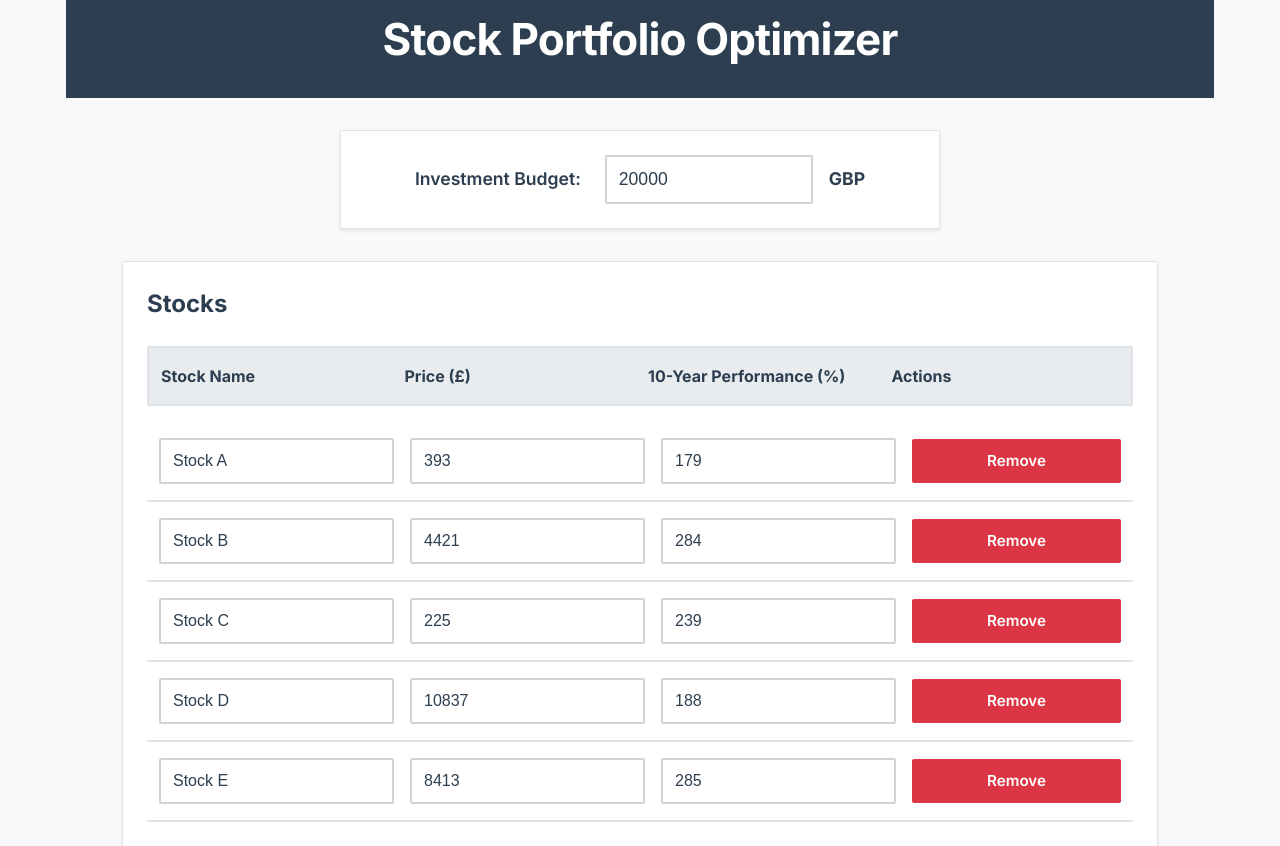
it: PortfolioOptimizer › handles stock with very high price
The width and height of the screenshot is (1280, 846).
Note: Set a very high price that exceeds budget
Replace the text in the 1st number field showing "393" with "50000" at (528, 461), box [410, 438, 645, 484]
(page scrolled)
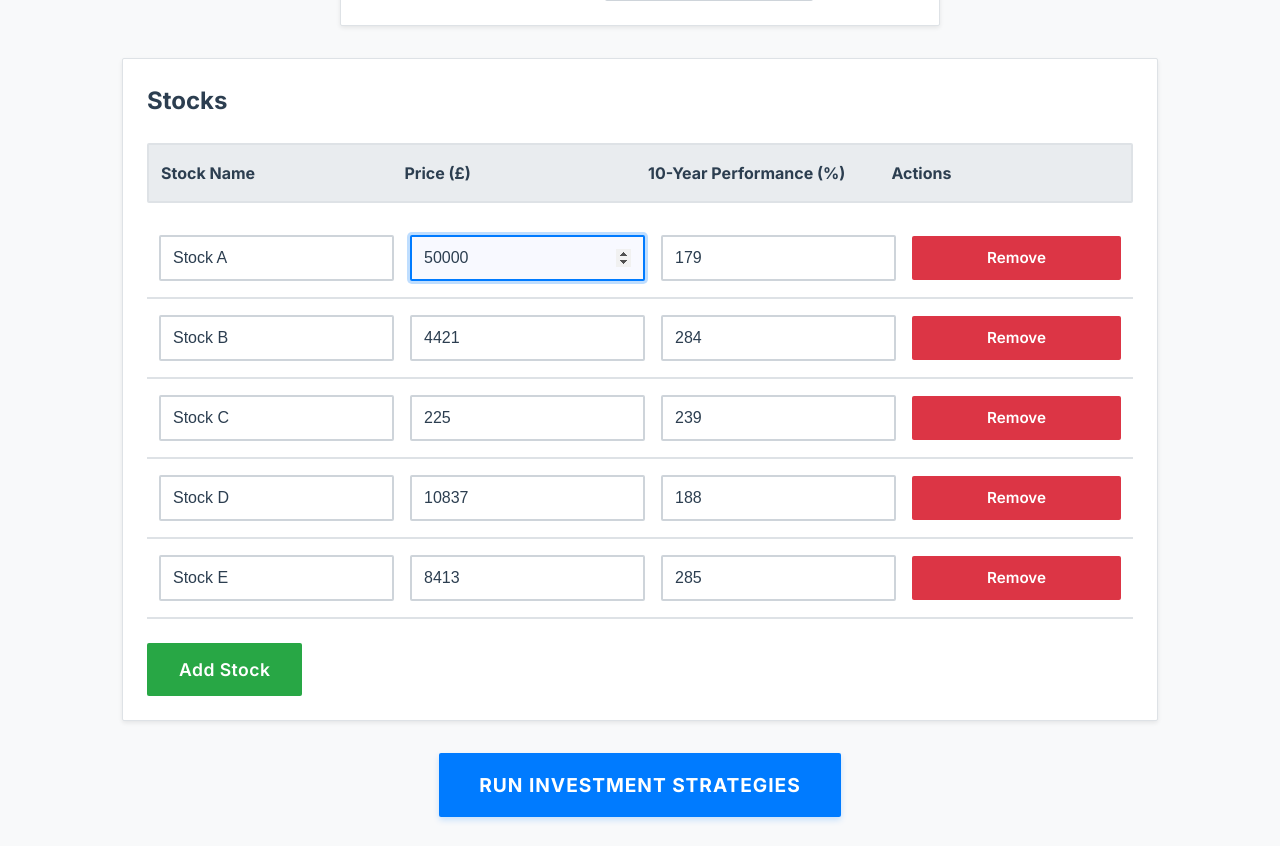
Click the button "Run Investment Strategies" at (640, 785), box [439, 753, 841, 817]
(page scrolled)
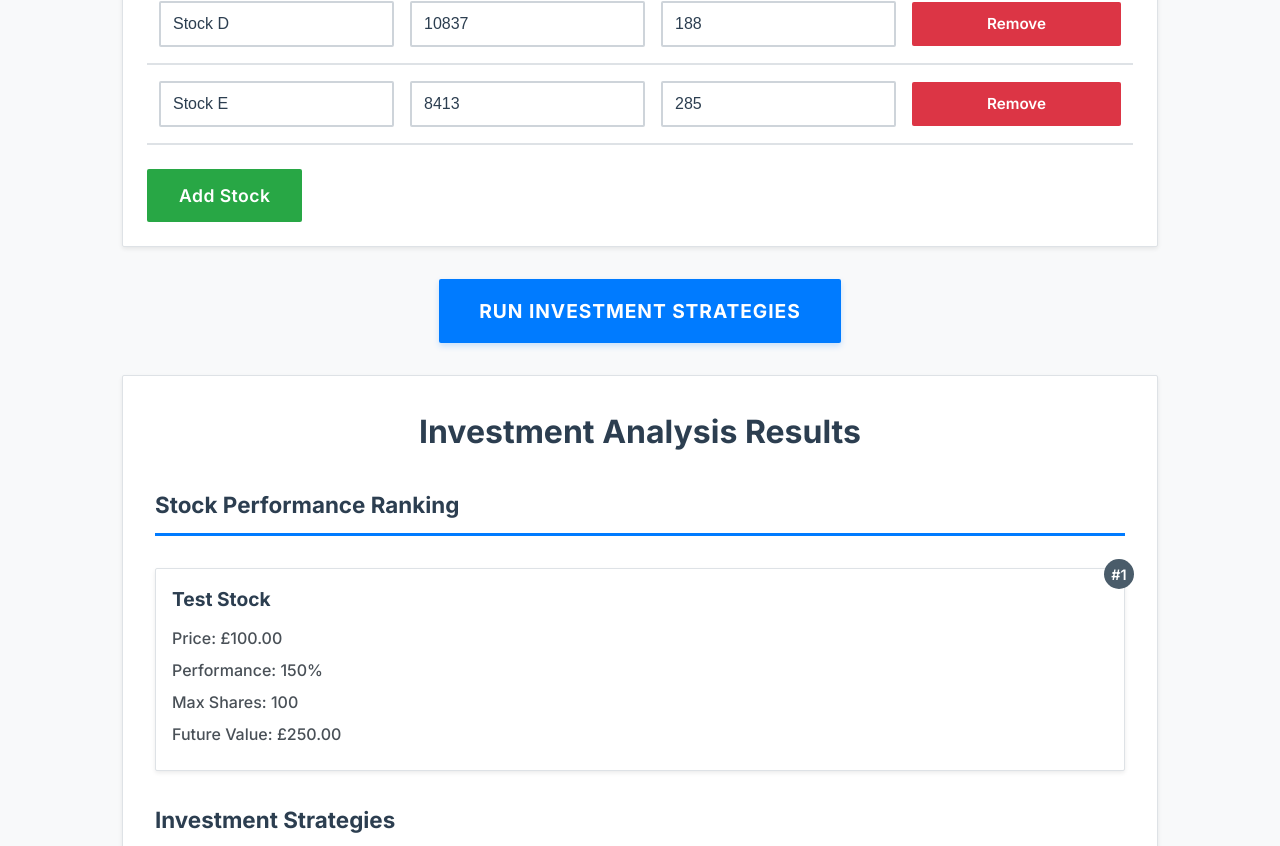
Now the heading "Investment Analysis Results" is shown, box [419, 412, 861, 451]
